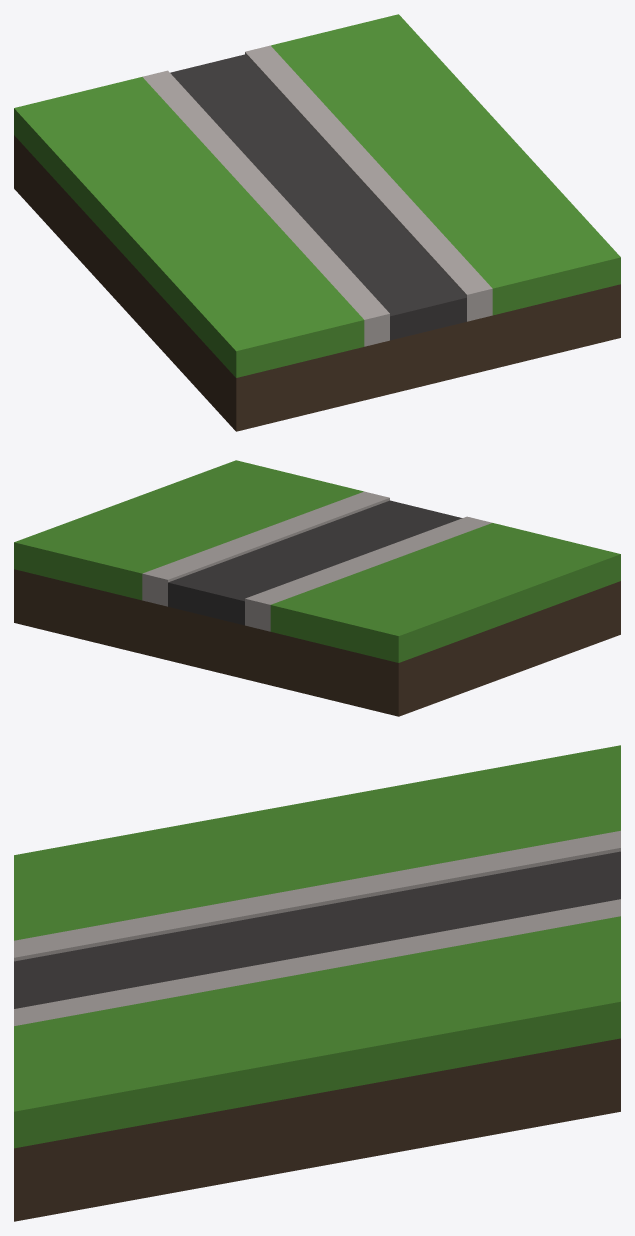
The model's file is tiles_tile-road-hill.fbx.
3 renders of one model, top to bottom at view 1: azimuth 30°, elevation 25°; view 2: azimuth 150°, elevation 25°; view 3: azimuth 270°, elevation 25°, orthographic. The views are drawn at different scales.
Visible parts, largest first — view 1: tiles_tile_road_hill; view 2: tiles_tile_road_hill; view 3: tiles_tile_road_hill.
Part boxes in pixels (left/top/right/bottom): tiles_tile_road_hill: left=14, top=14, right=620, bottom=431; tiles_tile_road_hill: left=14, top=460, right=620, bottom=716; tiles_tile_road_hill: left=14, top=745, right=620, bottom=1221.
Size of the model in its own units: 200 by 80 by 200.
